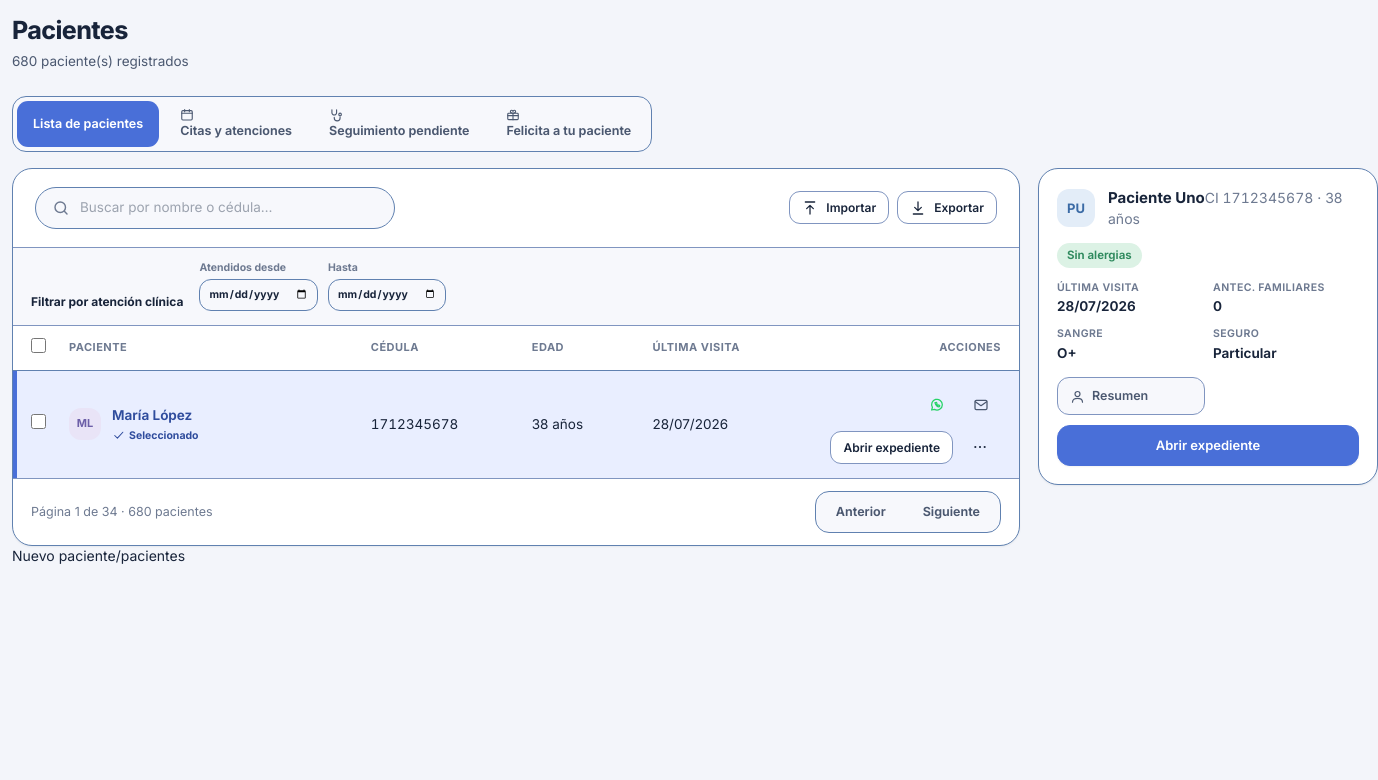
Test: PatientsPage › keeps page controls enabled during a background refresh of the current page
Click the button "Siguiente". click: coordinates (951, 512)
box: [907,496,996,528]
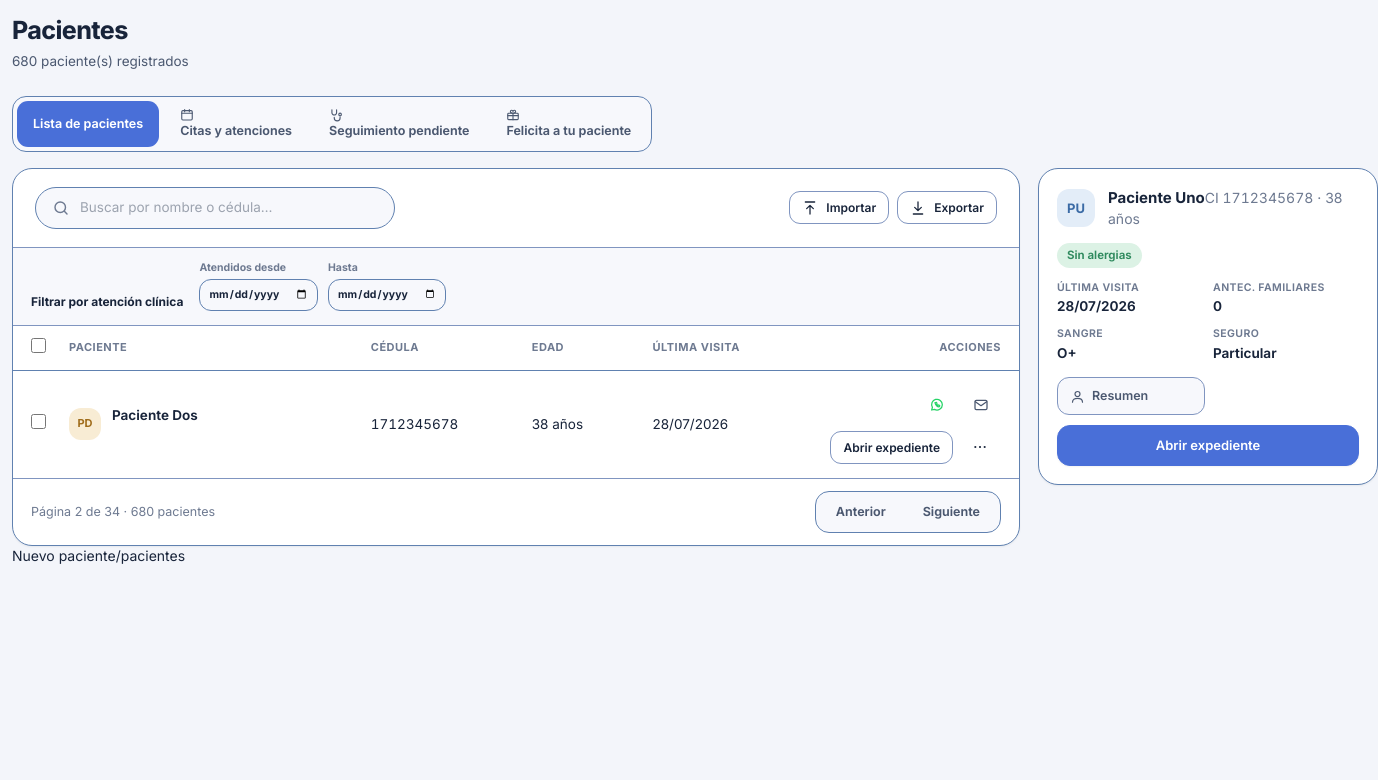
Expected: the button "Anterior" is enabled, [820,496,902,528]
Now the text "Página 2 de 34 · 680 pacientes" is shown, box [31,503,215,521]
